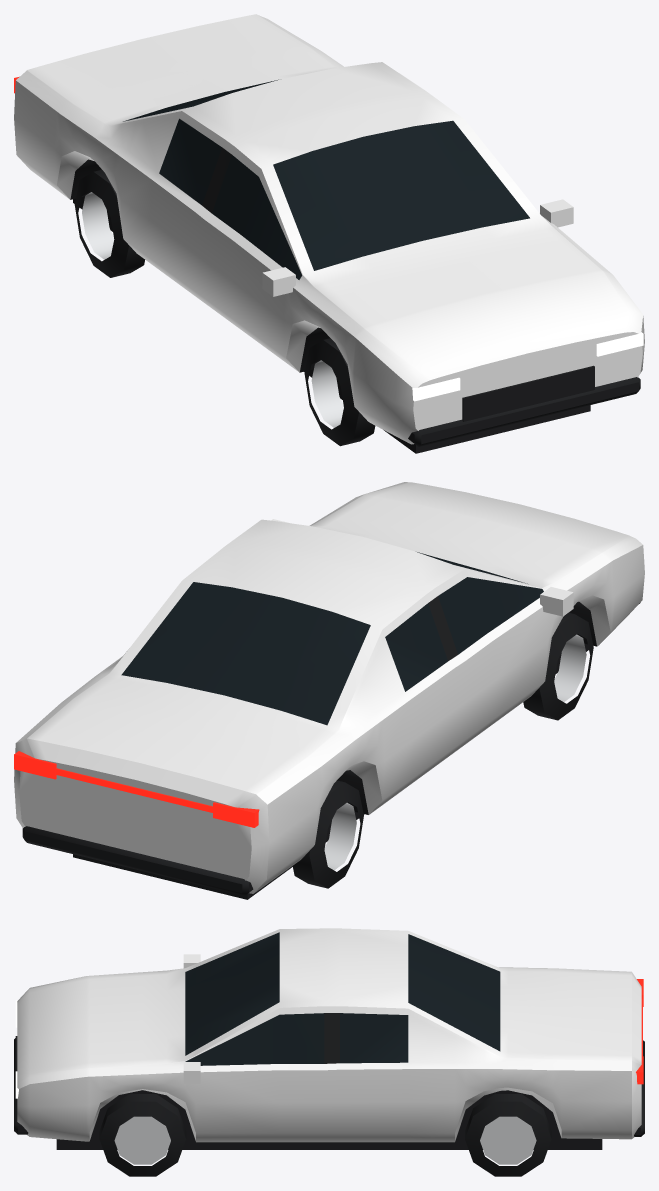
Rendered from car_sedan.gltf.
The picture shows the model from 3 angles, top to bottom: view 1: azimuth 30°, elevation 25°; view 2: azimuth 150°, elevation 25°; view 3: azimuth 270°, elevation 25°; orthographic projection. The views are drawn at different scales.
Parts seen in each view (by area): view 1: car_sedan_body; view 2: car_sedan_body; view 3: car_sedan_body.
Boxes of the visible parts, x1=… form: car_sedan_body: x1=14, y1=14, x2=644, y2=453; car_sedan_body: x1=14, y1=482, x2=644, y2=899; car_sedan_body: x1=14, y1=928, x2=644, y2=1176.
Bounding box in the file's own units: 2.1 × 1.42 × 4.8.
